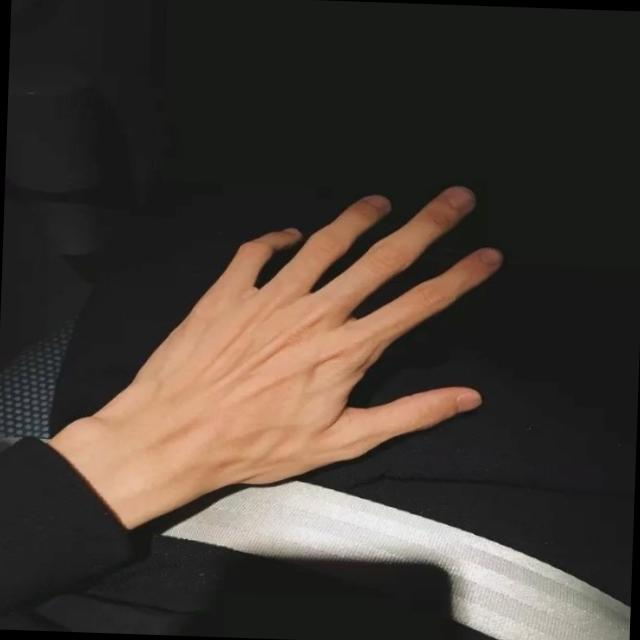Nail: (455, 390, 481, 412), (448, 188, 473, 210), (478, 248, 502, 266), (365, 194, 391, 209), (282, 228, 300, 235)
